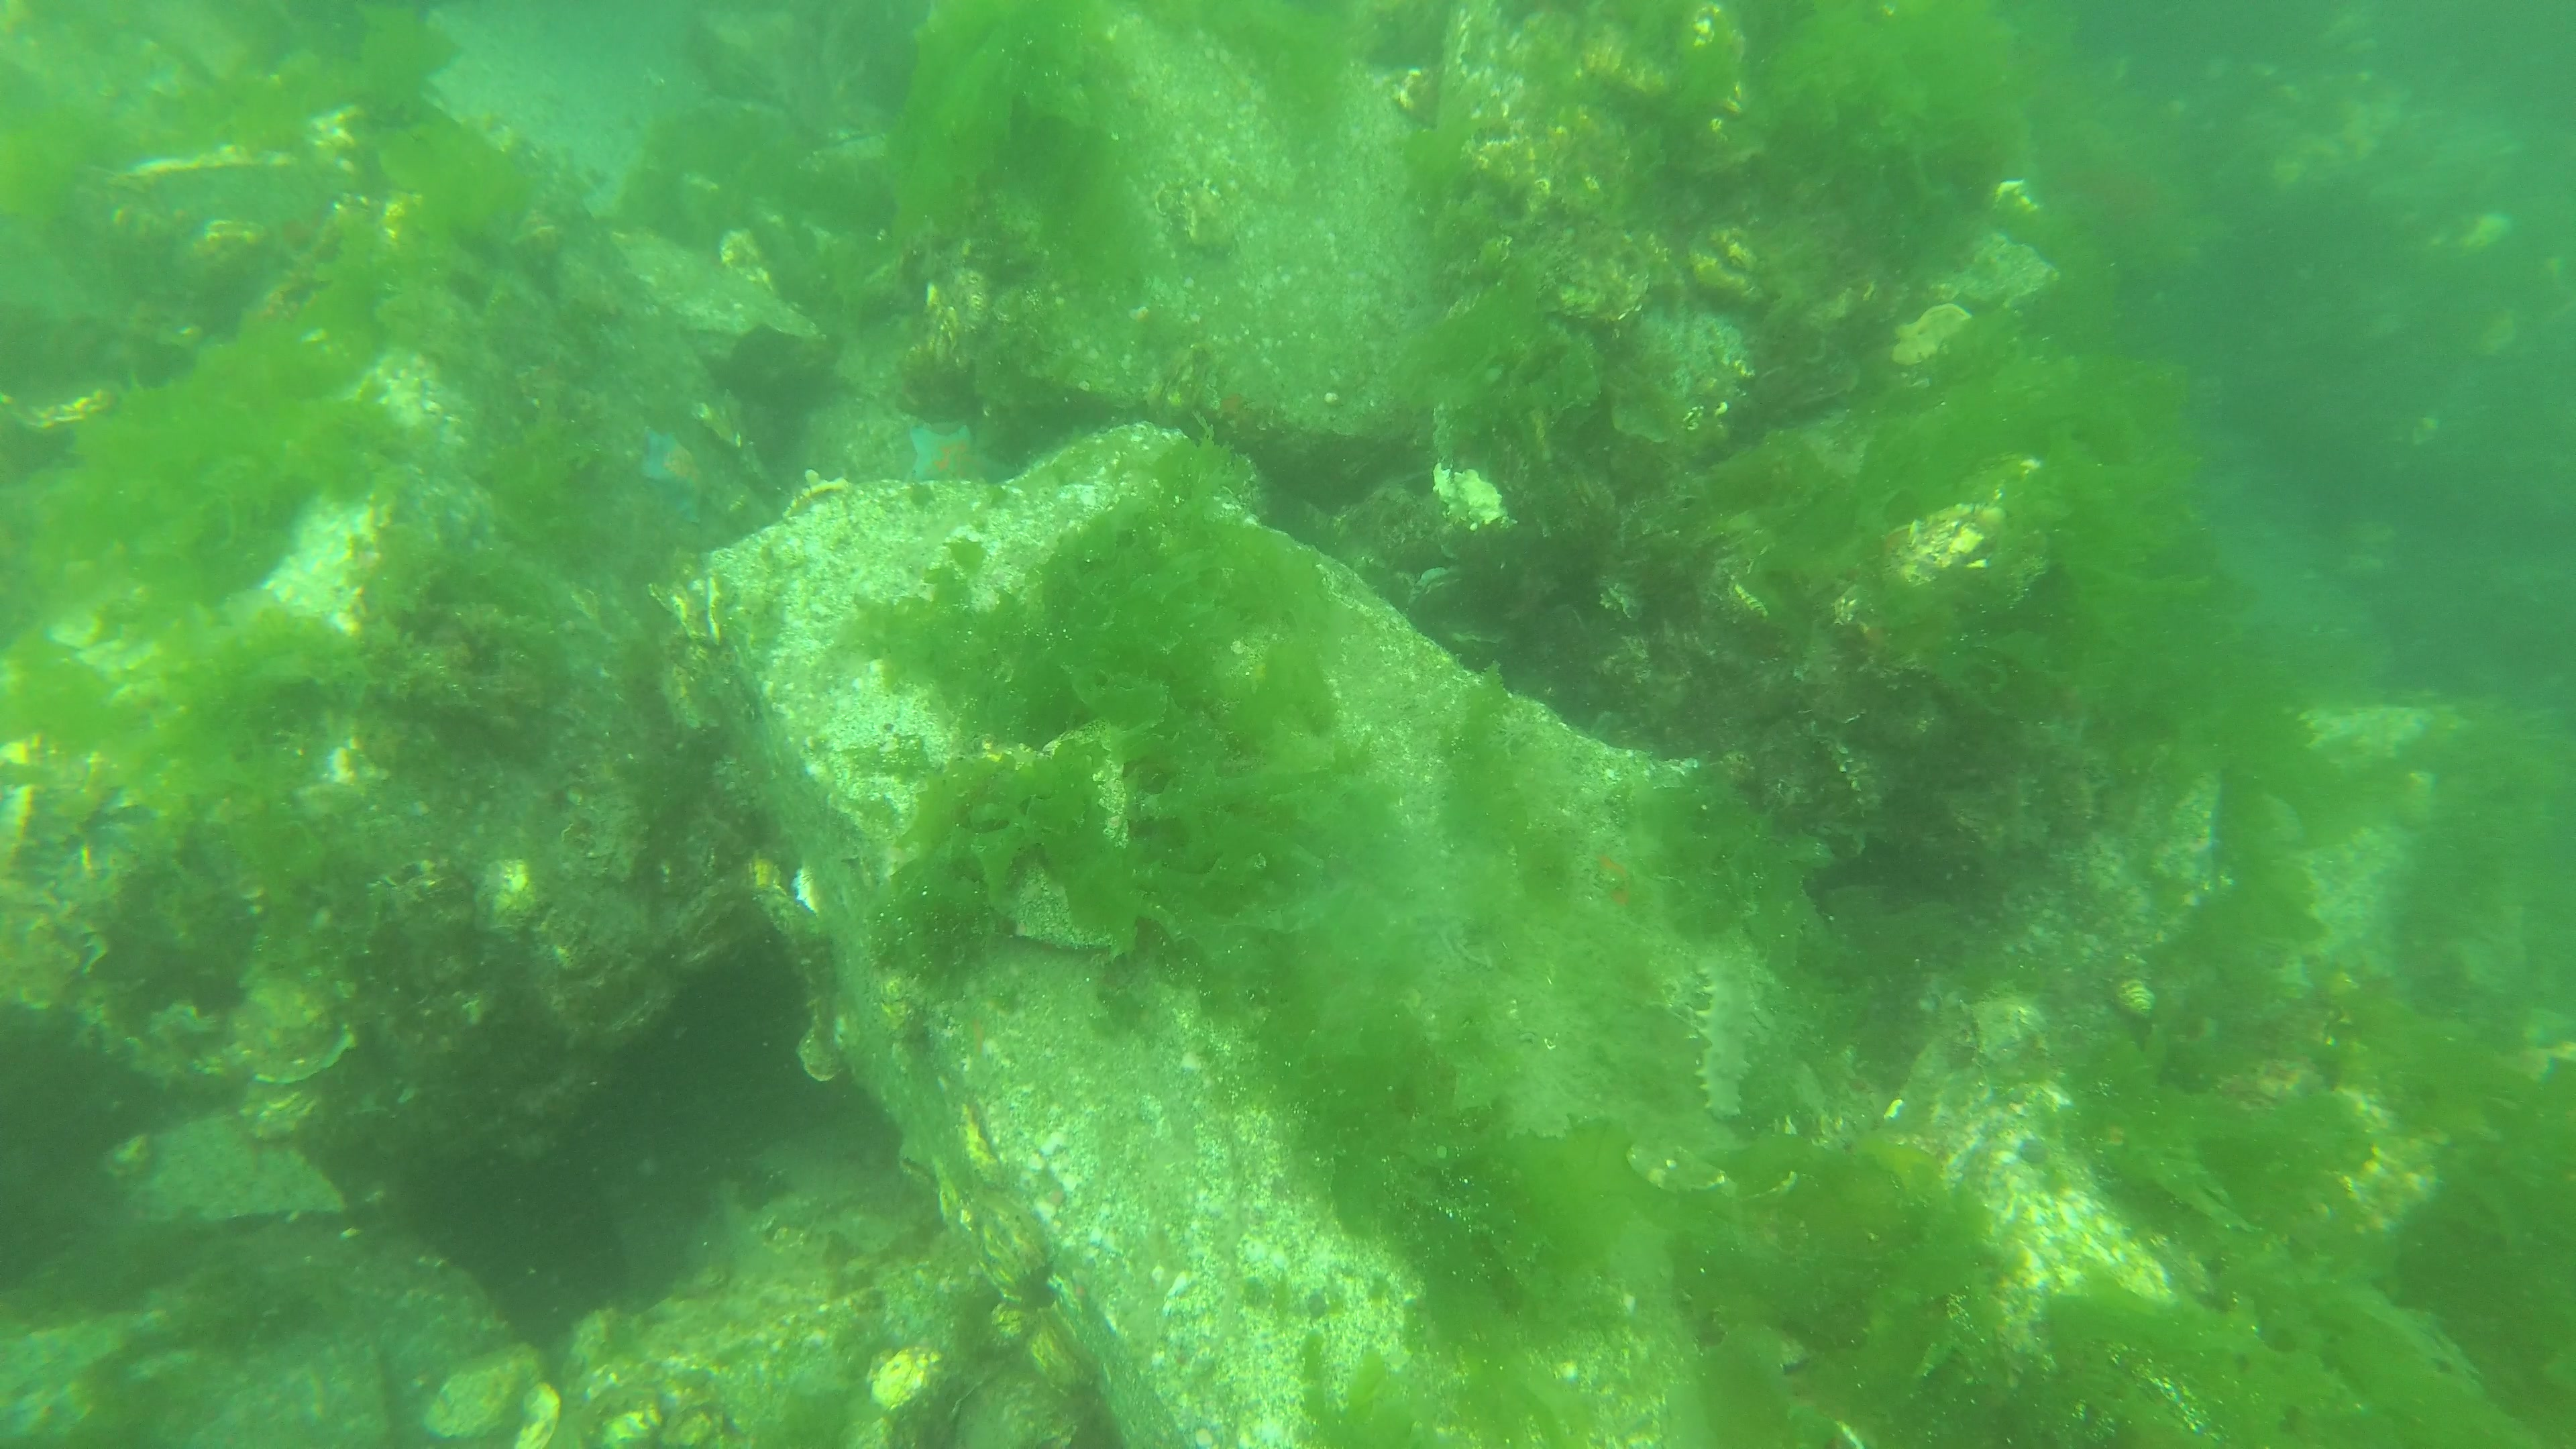holothurian: (1691, 936, 1766, 1123)
starfish: (902, 414, 1001, 490), (633, 418, 702, 520)
